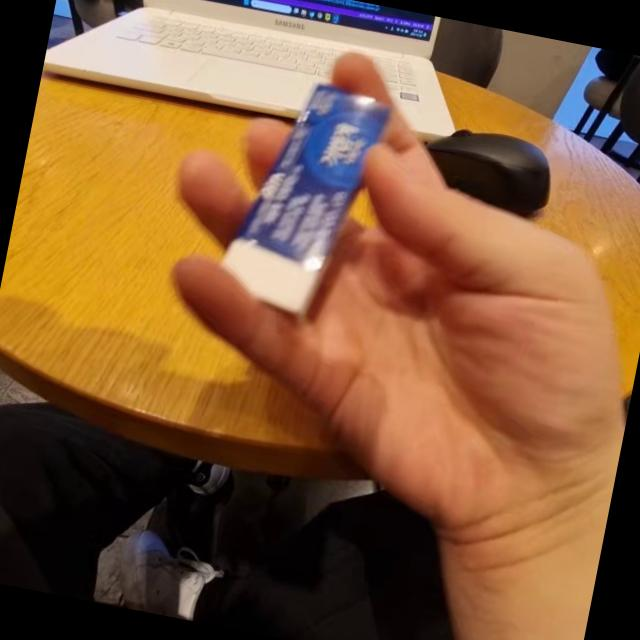eraser: (243, 80, 372, 352)
grab_eraser: (131, 29, 640, 593)
mouse: (422, 121, 562, 223)
